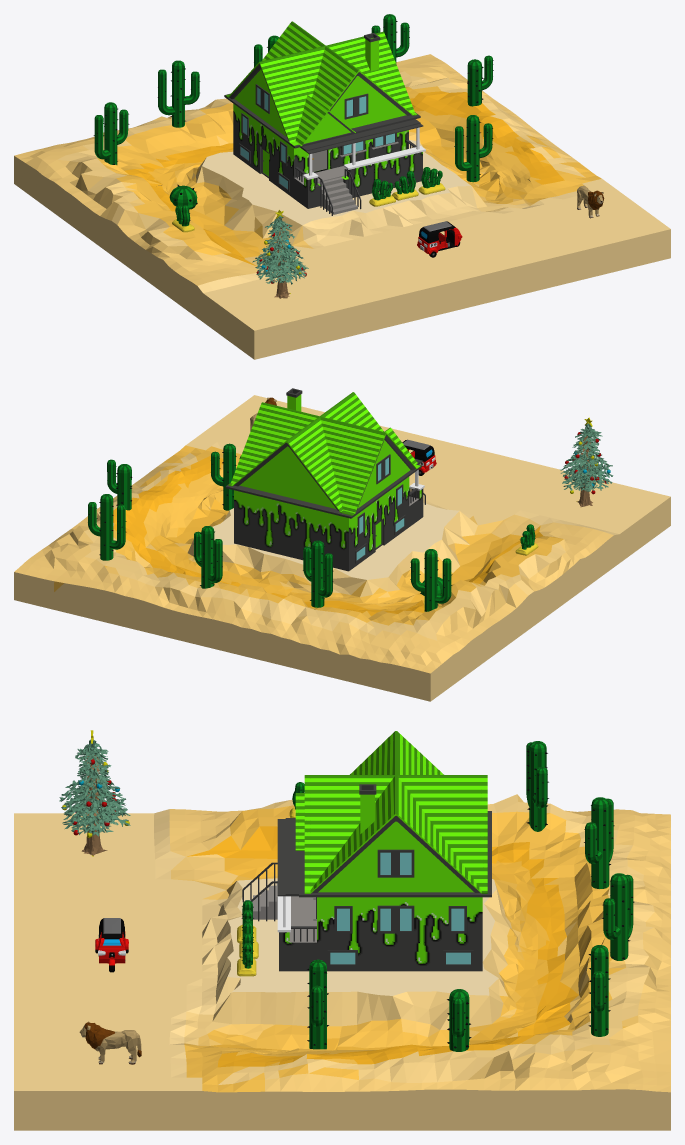
3 renders of one model, top to bottom at view 1: azimuth 30°, elevation 25°; view 2: azimuth 150°, elevation 25°; view 3: azimuth 270°, elevation 25°, orthographic. The views are drawn at different scales.
Parts seen in each view (by area): view 1: Cube.001, Cube.754, OBJRANDOM_CHRISTMAS_TREE, Cylinder.037, Cylinder.044, Cylinder.045, VEHICLES_TUC_TUC, Cylinder.038, Cylinder.042, ANIMAL_LEON, Cylinder.039, Cylinder.041 (+2 smaller); view 2: Cube.001, Cube.754, OBJRANDOM_CHRISTMAS_TREE, Cylinder.042, Cylinder.045, Cylinder.044, Cylinder.043, Cylinder.037, Cylinder.038, VEHICLES_TUC_TUC; view 3: Cube.001, Cube.754, OBJRANDOM_CHRISTMAS_TREE, Cylinder.043, Cylinder.044, Cylinder.045, Cylinder.042, Cylinder.037, ANIMAL_LEON, VEHICLES_TUC_TUC, Cylinder.038, Cylinder.041.
Boxes of the visible parts, x1=… form: Cube.001: x1=14, y1=54, x2=670, y2=359; Cube.754: x1=224, y1=21, x2=425, y2=215; OBJRANDOM_CHRISTMAS_TREE: x1=252, y1=210, x2=308, y2=298; Cylinder.037: x1=454, y1=115, x2=493, y2=182; Cylinder.044: x1=157, y1=60, x2=200, y2=127; Cylinder.045: x1=93, y1=102, x2=129, y2=164; VEHICLES_TUC_TUC: x1=417, y1=221, x2=462, y2=257; Cylinder.038: x1=467, y1=55, x2=493, y2=106; Cylinder.042: x1=371, y1=14, x2=409, y2=62; ANIMAL_LEON: x1=577, y1=185, x2=604, y2=218; Cylinder.039: x1=369, y1=179, x2=395, y2=206; Cylinder.041: x1=418, y1=167, x2=445, y2=194; Cube.001: x1=14, y1=395, x2=670, y2=701; Cube.754: x1=225, y1=388, x2=425, y2=571; OBJRANDOM_CHRISTMAS_TREE: x1=560, y1=417, x2=613, y2=507; Cylinder.042: x1=88, y1=494, x2=126, y2=560; Cylinder.045: x1=410, y1=549, x2=452, y2=611; Cylinder.044: x1=303, y1=540, x2=333, y2=607; Cylinder.043: x1=193, y1=526, x2=222, y2=588; Cylinder.037: x1=211, y1=443, x2=241, y2=510; Cylinder.038: x1=107, y1=459, x2=132, y2=510; VEHICLES_TUC_TUC: x1=402, y1=439, x2=436, y2=475; Cube.001: x1=14, y1=794, x2=670, y2=1130; Cube.754: x1=242, y1=731, x2=491, y2=971; OBJRANDOM_CHRISTMAS_TREE: x1=59, y1=730, x2=130, y2=856; Cylinder.043: x1=602, y1=873, x2=634, y2=960; Cylinder.044: x1=584, y1=797, x2=614, y2=888; Cylinder.045: x1=526, y1=741, x2=548, y2=831; Cylinder.042: x1=588, y1=945, x2=610, y2=1036; Cylinder.037: x1=307, y1=959, x2=328, y2=1049; ANIMAL_LEON: x1=79, y1=1021, x2=141, y2=1064; VEHICLES_TUC_TUC: x1=95, y1=918, x2=128, y2=972; Cylinder.038: x1=447, y1=989, x2=471, y2=1051; Cylinder.041: x1=237, y1=933, x2=256, y2=976.
Bounding box in the file's own units: 4002 × 1626 × 4001.
Materials: 35 (3 with a texture image).
